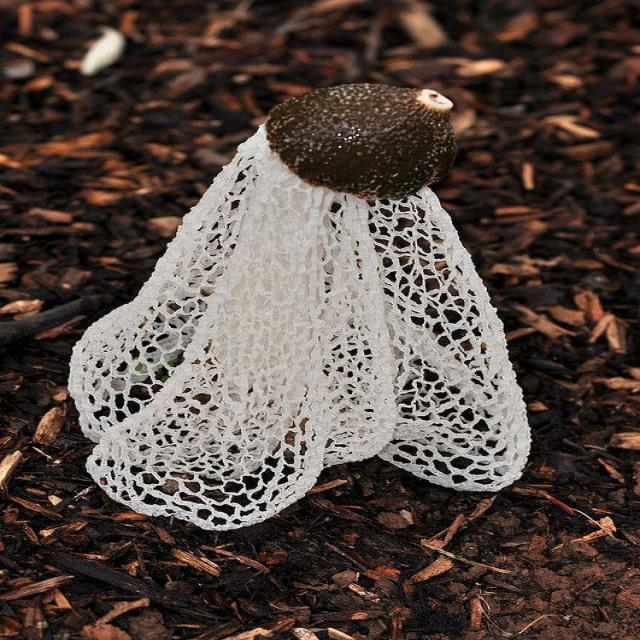Dictyophora indusiate: (65, 84, 533, 532)
